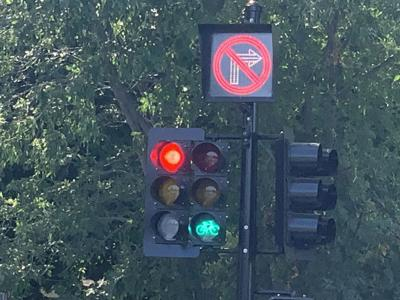trafficlight_green: (188, 140, 224, 244)
trafficlight_red: (149, 139, 186, 244)
